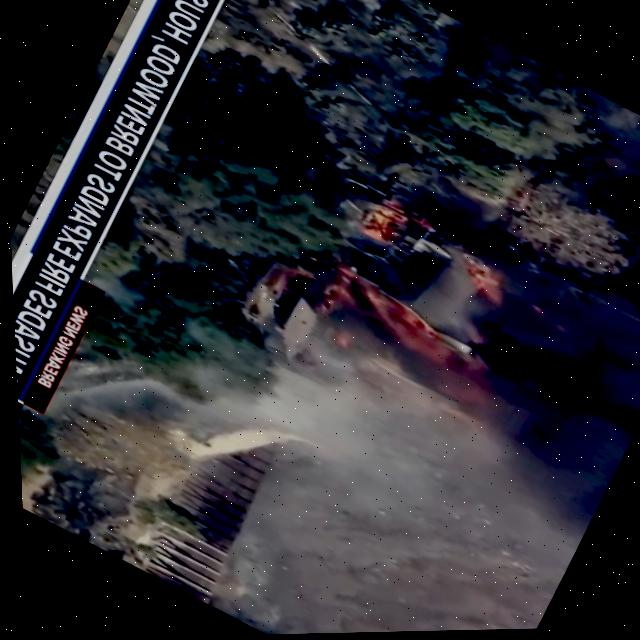Smoke: (373, 217, 640, 539)
